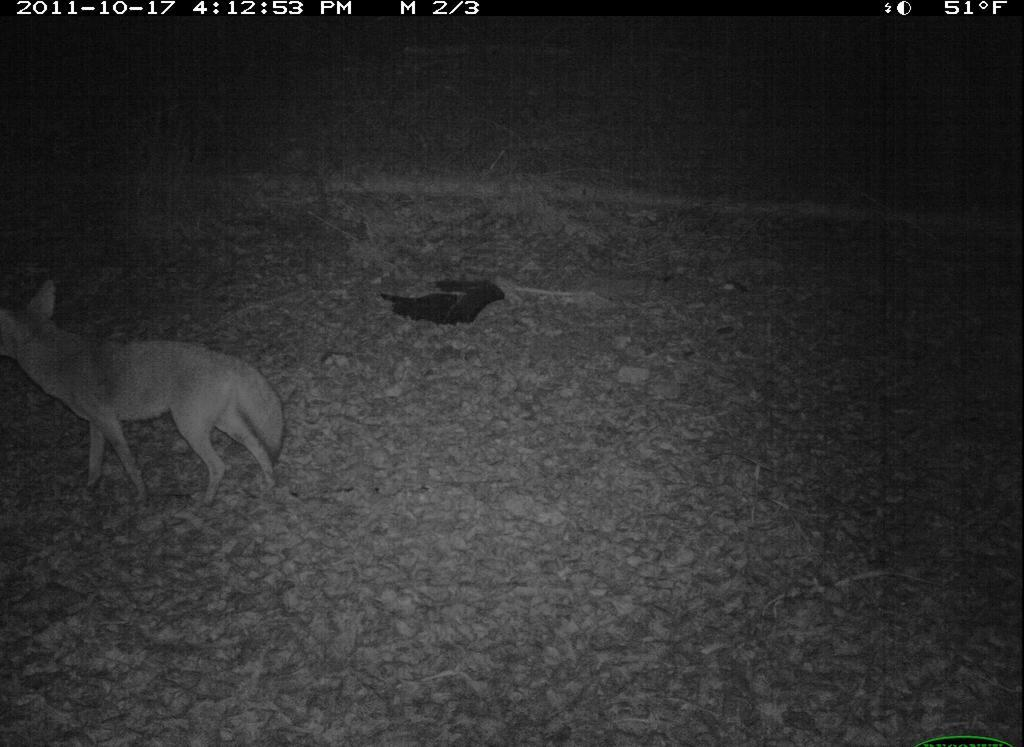coyote: (2, 313, 305, 510)
